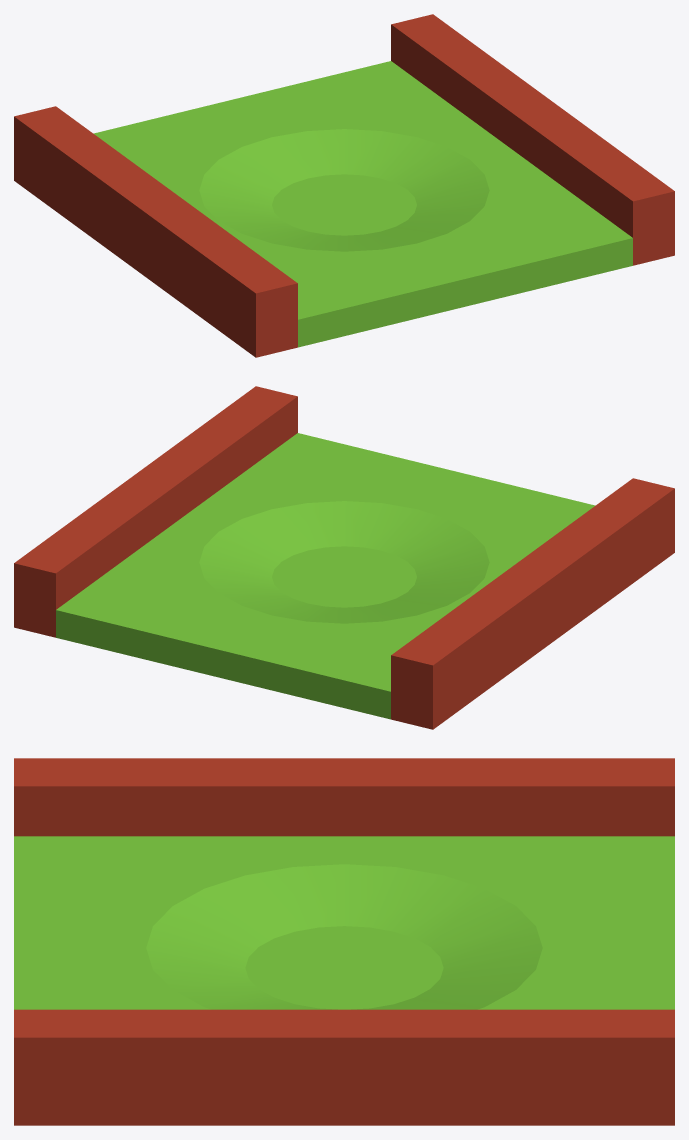
The model's file is Bump_down_walls_01.obj.
3 renders of one model, top to bottom at view 1: azimuth 30°, elevation 25°; view 2: azimuth 150°, elevation 25°; view 3: azimuth 270°, elevation 25°, orthographic. The views are drawn at different scales.
Parts seen in each view (by area): view 1: Mesh1_Bump_down_walls_Model; view 2: Mesh1_Bump_down_walls_Model; view 3: Mesh1_Bump_down_walls_Model.
Part boxes in pixels (<box>): Mesh1_Bump_down_walls_Model: <box>14,14,674,357</box>; Mesh1_Bump_down_walls_Model: <box>14,386,674,729</box>; Mesh1_Bump_down_walls_Model: <box>14,758,674,1125</box>.
Bounding box in the file's own units: 3 × 0.44 × 3.
